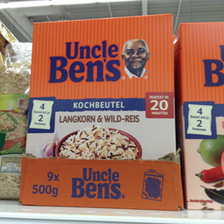rice: (24, 13, 176, 160), (175, 23, 223, 211)
